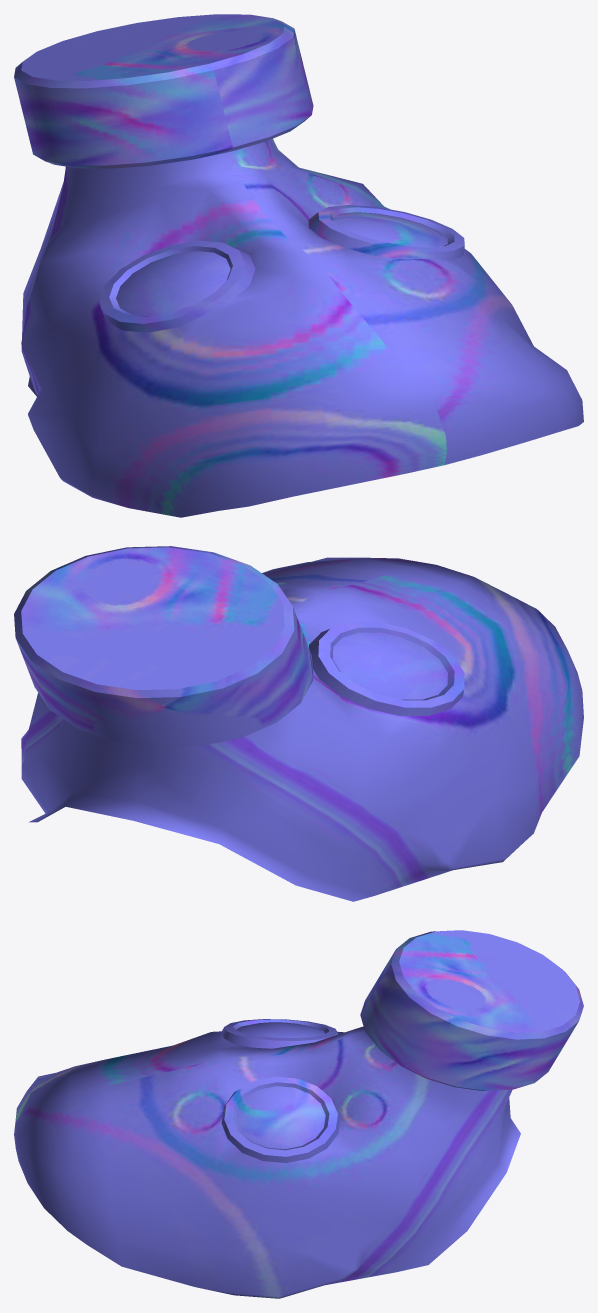
File: Headwear65.glb
The picture shows the model from 3 angles, top to bottom: view 1: azimuth 30°, elevation 25°; view 2: azimuth 150°, elevation 25°; view 3: azimuth 270°, elevation 25°; orthographic projection. The views are drawn at different scales.
Parts seen in each view (by area): view 1: Headwear65; view 2: Headwear65; view 3: Headwear65.
Boxes of the visible parts, x1,y1,x2,y2 form: Headwear65: [14, 14, 583, 517]; Headwear65: [14, 546, 583, 901]; Headwear65: [14, 930, 583, 1298].
Size of the model in its own units: 1.66 by 1.11 by 2.27.
1 material, 1 textured.
